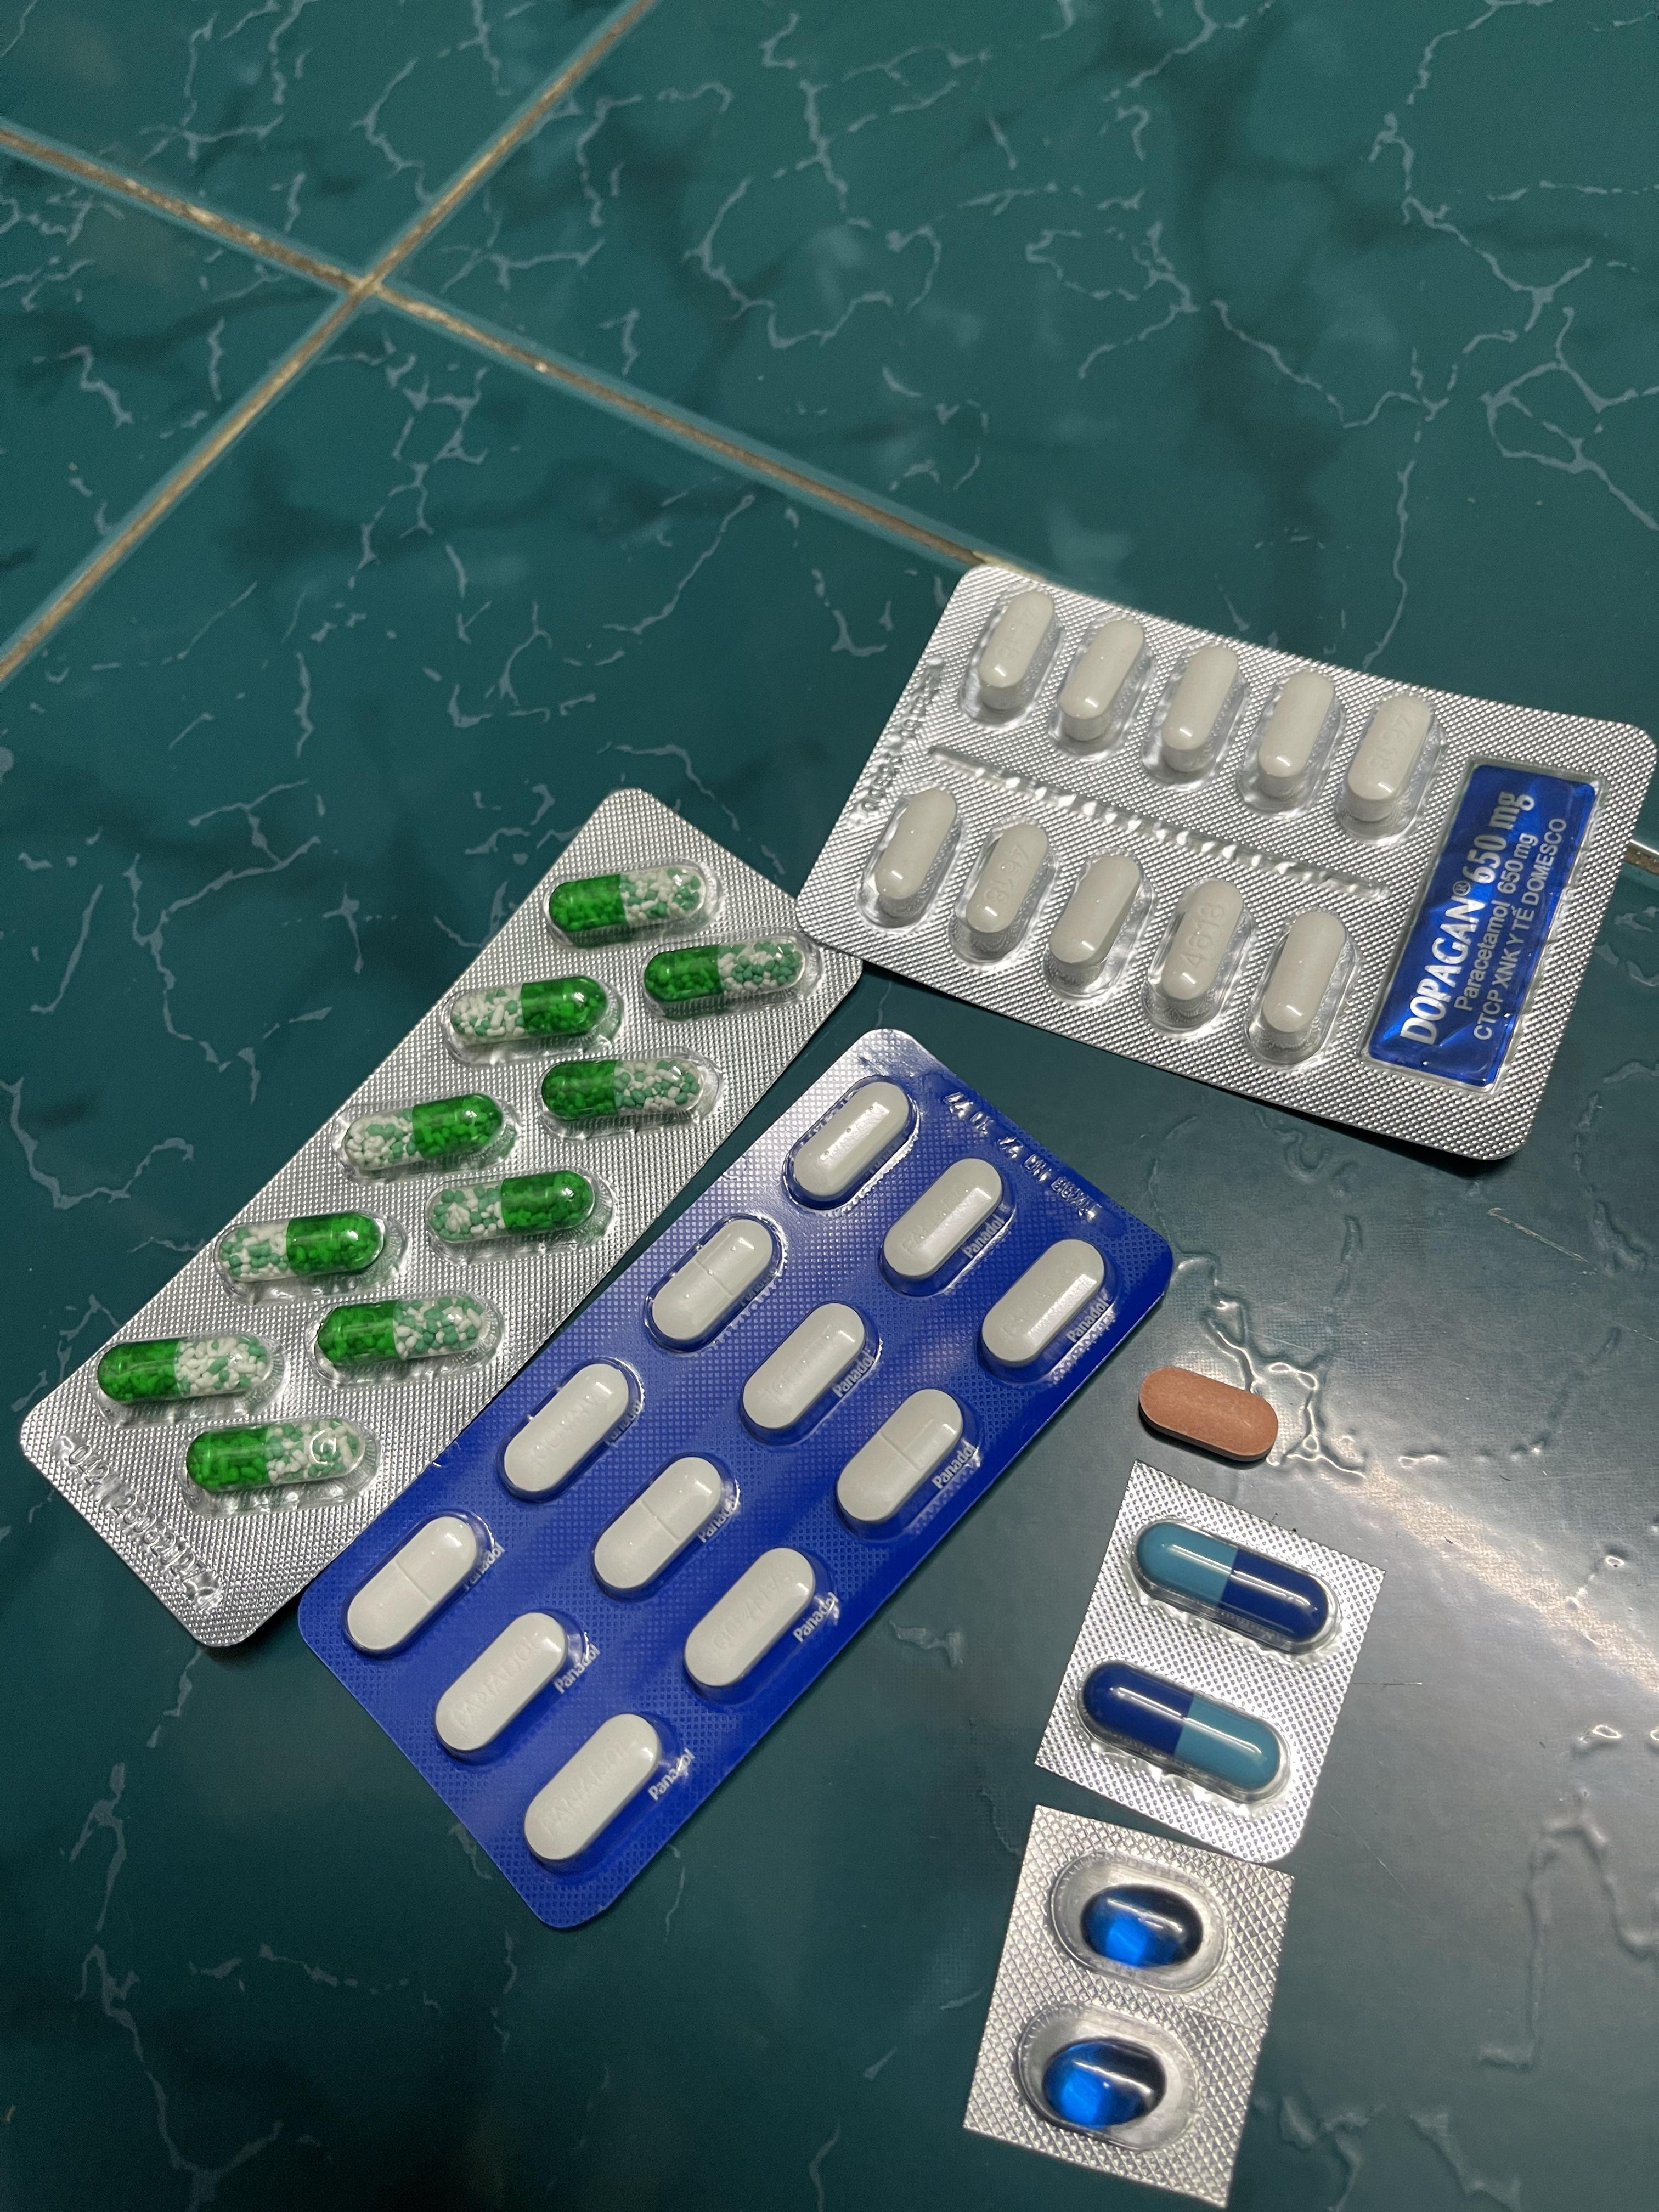Lincomyxin_500mg: (1044, 2043, 1157, 2128), (1082, 1890, 1199, 1968)
Loratadine_10mg: (1136, 1362, 1279, 1460)
Paracetamol_350mg: (523, 1712, 673, 1871), (343, 1510, 490, 1656), (434, 1611, 575, 1761), (683, 1548, 823, 1698), (591, 1451, 732, 1597), (502, 1362, 640, 1505), (739, 1296, 873, 1442), (840, 1386, 969, 1533), (976, 1238, 1107, 1379), (648, 1214, 784, 1348), (880, 1153, 1004, 1287), (788, 1080, 908, 1202)
Paracetamol_500mg: (1047, 850, 1147, 993), (955, 817, 1053, 953), (1258, 907, 1349, 1043), (1342, 688, 1434, 820), (1157, 876, 1249, 1008), (1251, 669, 1338, 796), (1058, 620, 1147, 740), (1159, 644, 1243, 768), (875, 789, 962, 906), (974, 587, 1058, 707)
Paracetamol_650mg: (188, 1420, 368, 1496), (315, 1296, 493, 1367), (336, 1099, 505, 1172), (101, 1334, 275, 1404), (432, 1170, 599, 1240), (218, 1211, 383, 1280), (537, 1054, 709, 1120), (645, 937, 805, 1005), (551, 867, 706, 935), (444, 981, 603, 1043)
pill: (1084, 1663, 1283, 1801), (1141, 1527, 1331, 1646)
